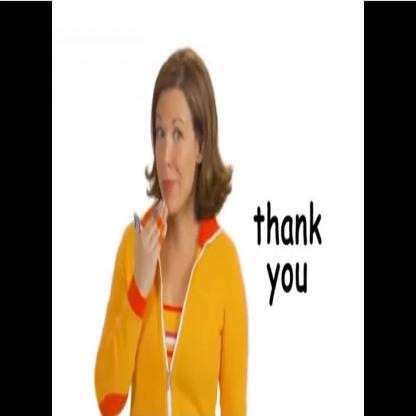ThankYou: (127, 42, 236, 298)
